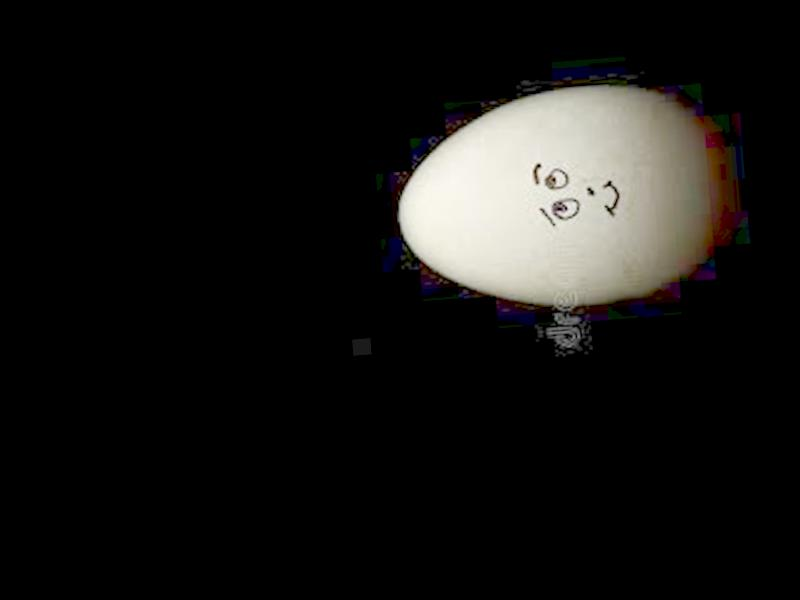Eggs: (389, 78, 726, 316)
